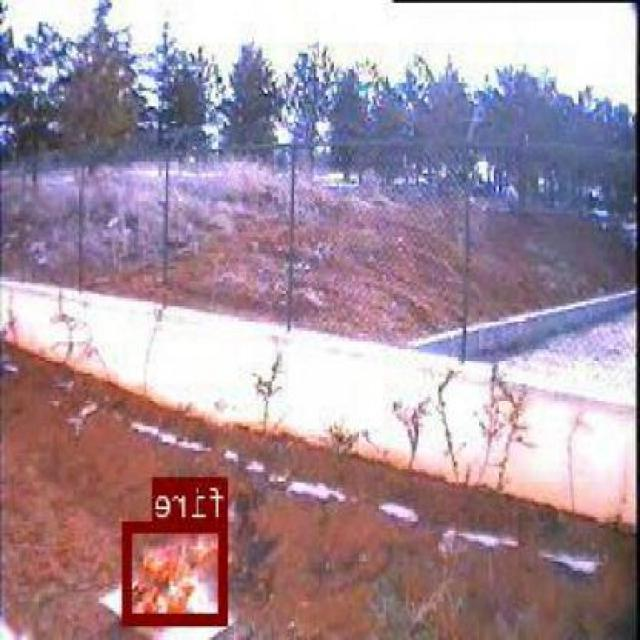Fire: (124, 518, 230, 624)
